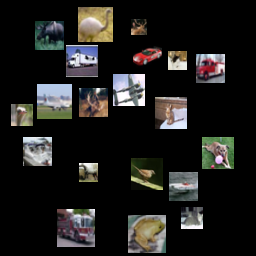airplane: (37, 84, 72, 119), (113, 74, 145, 106)
automobile: (133, 42, 162, 71)
bird: (78, 7, 113, 42), (131, 158, 163, 190), (11, 104, 33, 126)
cat: (155, 97, 187, 129), (181, 207, 203, 229), (168, 51, 187, 70)
deer: (79, 88, 108, 117), (35, 21, 64, 50), (131, 19, 147, 35)
dog: (202, 137, 234, 169)
frog: (128, 215, 166, 253)
ship: (23, 137, 52, 166), (169, 172, 198, 201)
